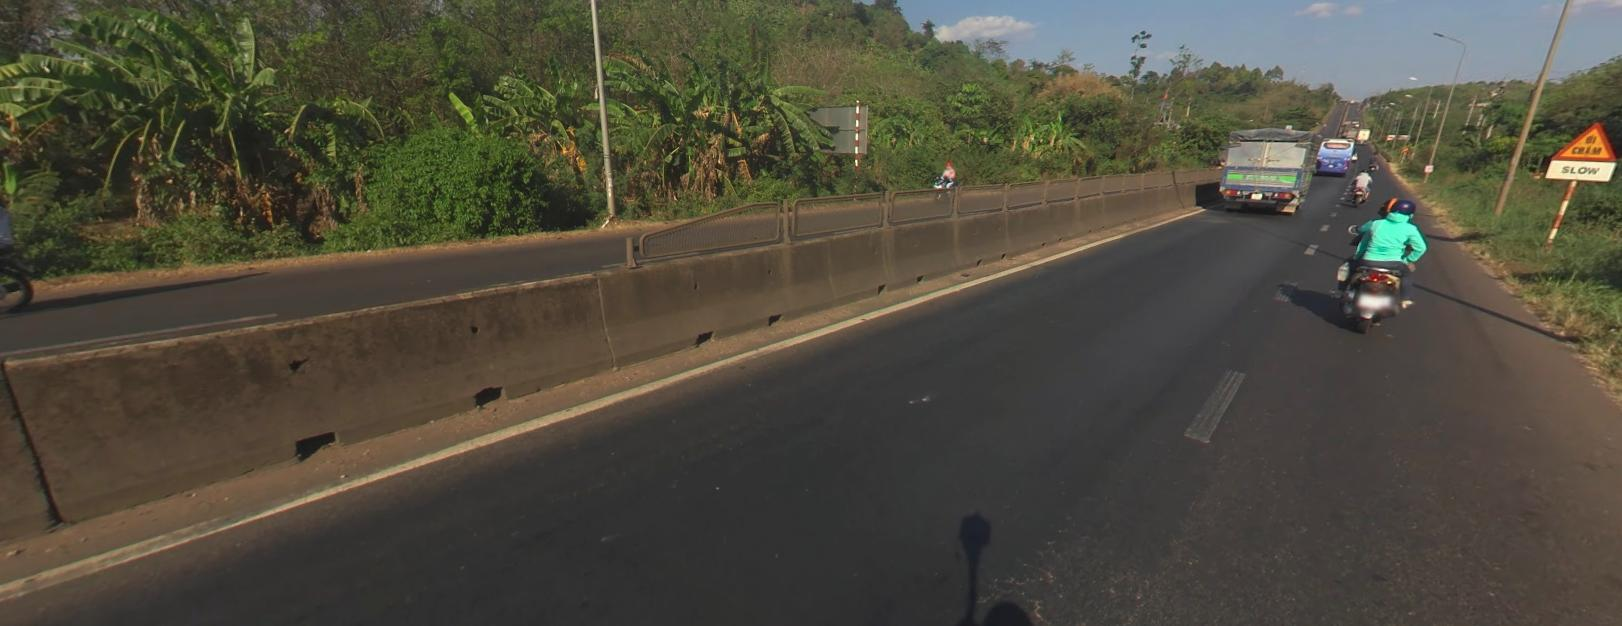Nguy hiem: (1549, 120, 1617, 160), (1549, 120, 1616, 160)
